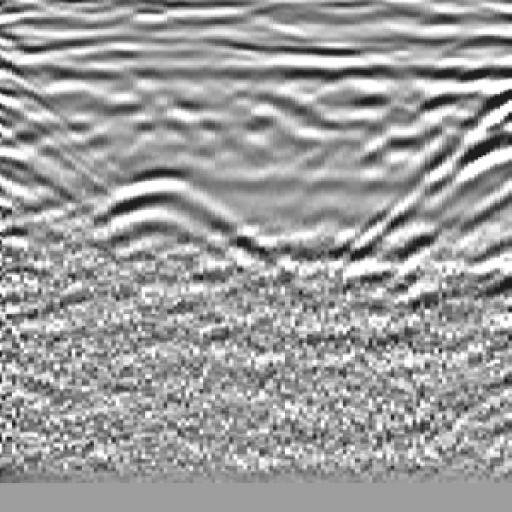metalic: (84, 46, 252, 274)
nonmetalic: (360, 46, 512, 286)
